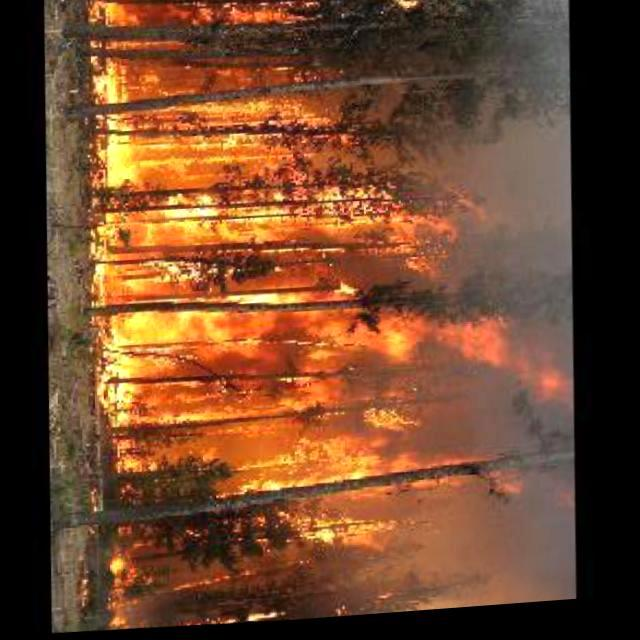fire: (82, 1, 566, 636)
